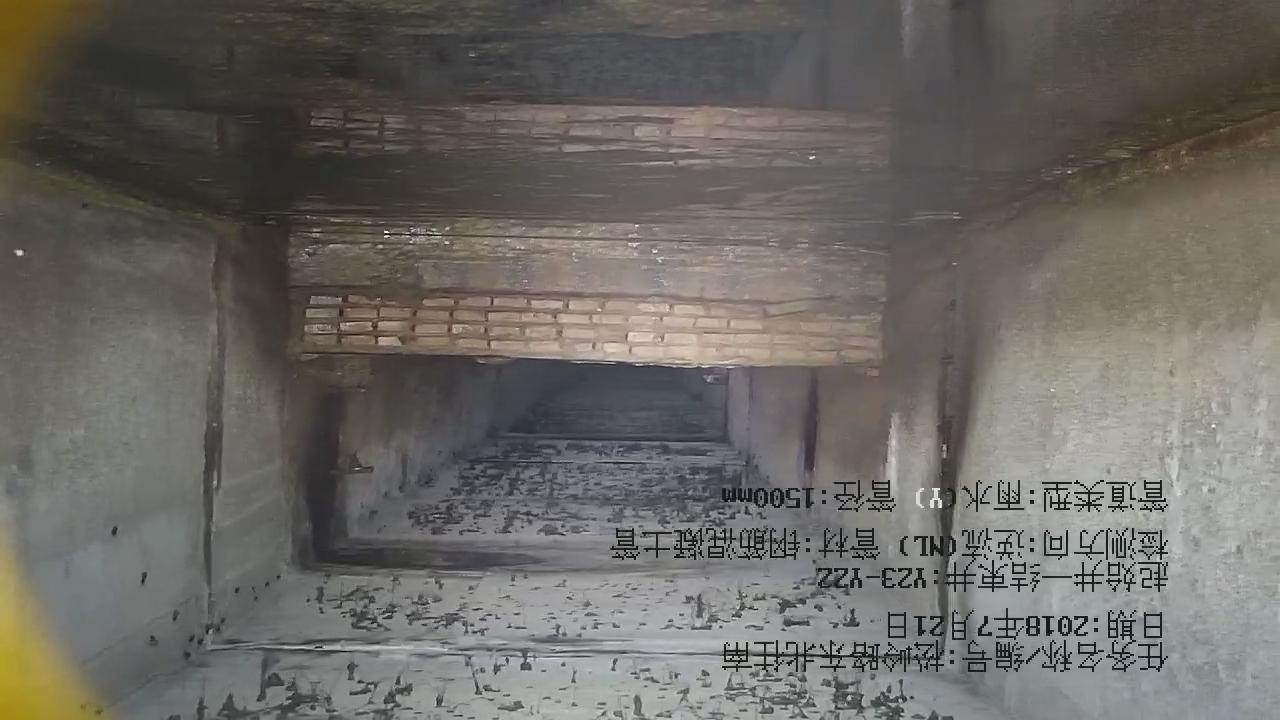CQBG: (290, 216, 891, 368)
